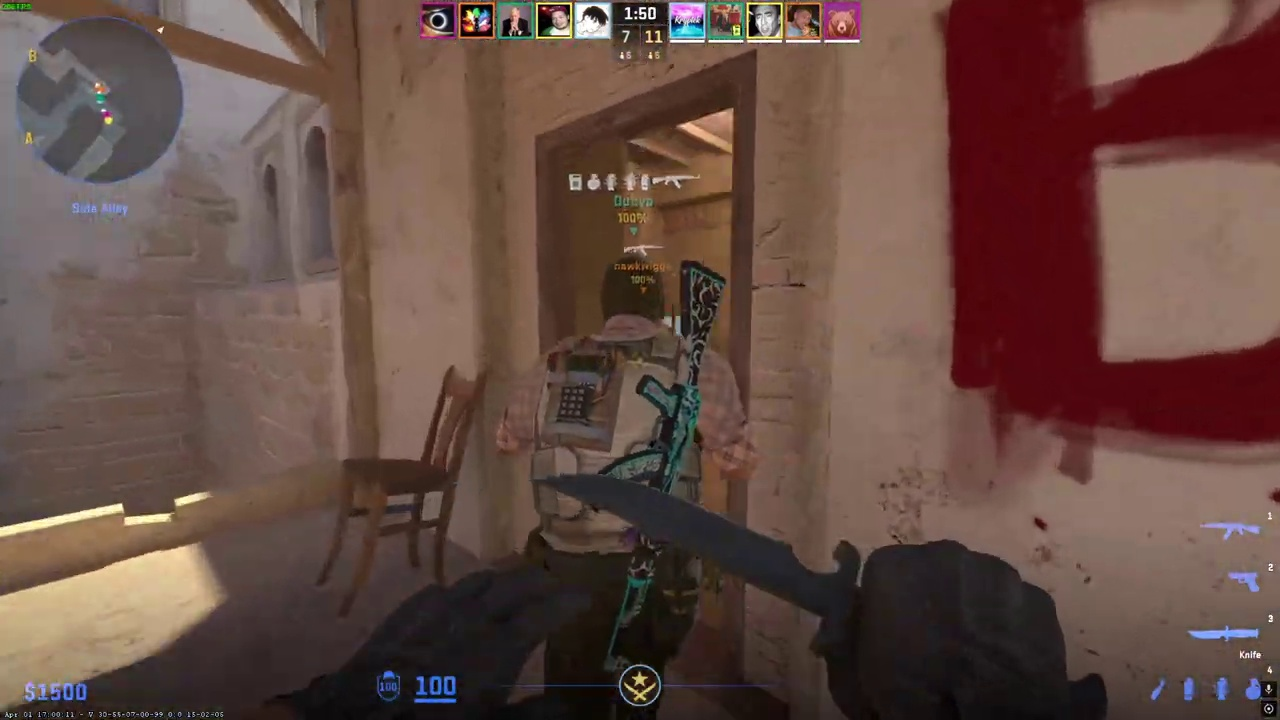Terrorist: (505, 255, 747, 711)
